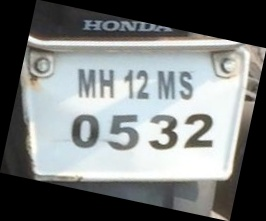character: (106, 114, 139, 150), (147, 114, 178, 149), (70, 113, 99, 149), (183, 112, 212, 148), (77, 66, 96, 98), (157, 69, 176, 100), (98, 68, 115, 99), (134, 69, 150, 100), (179, 70, 194, 100), (123, 69, 134, 98)
